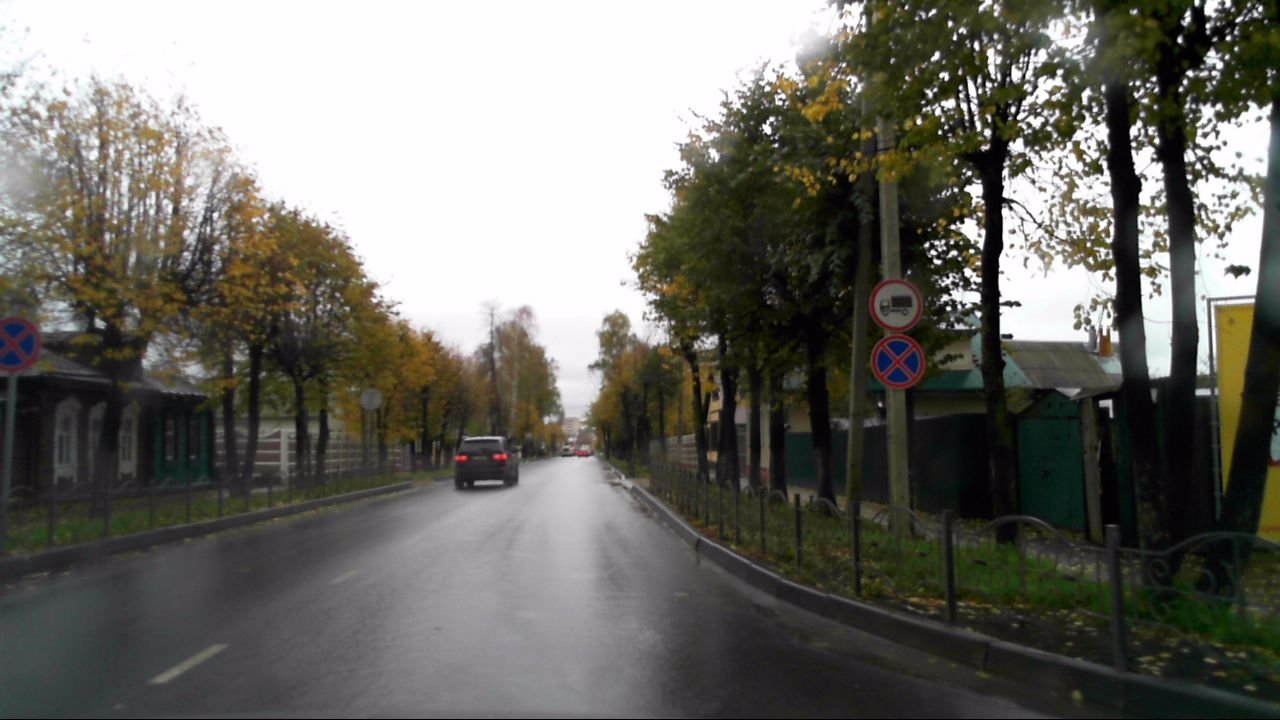No Parking: (870, 334, 925, 388)
